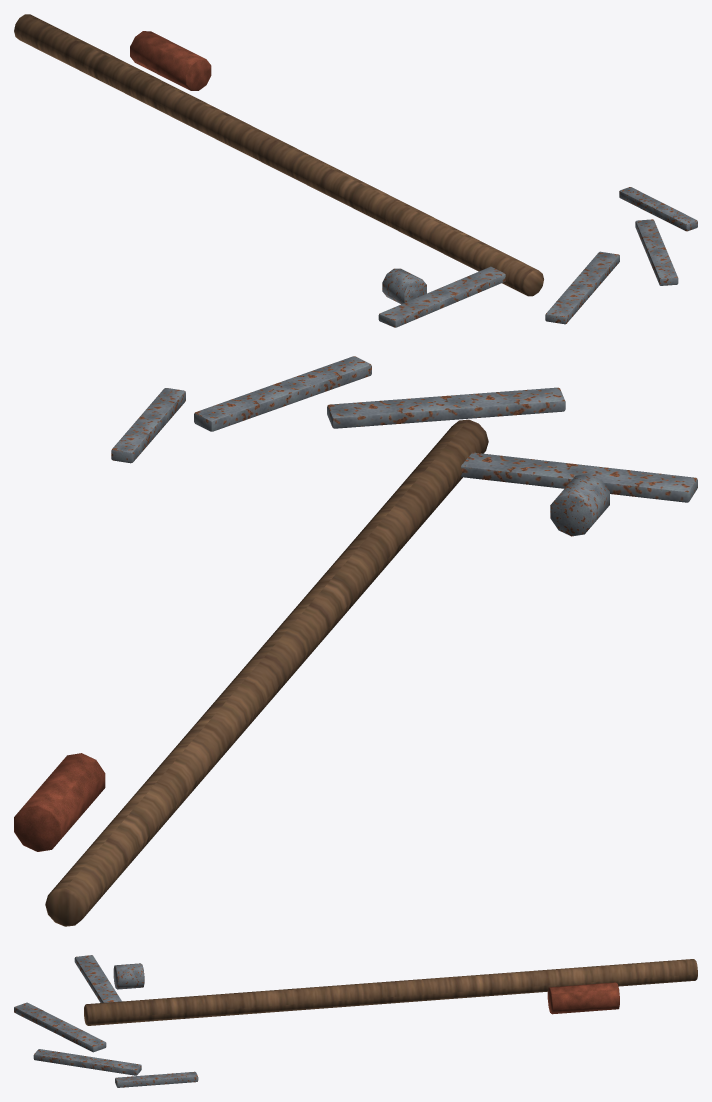
File: scythe_preview.glb
The picture shows the model from 3 angles, top to bottom: view 1: azimuth 30°, elevation 25°; view 2: azimuth 150°, elevation 25°; view 3: azimuth 270°, elevation 25°; orthographic projection. The views are drawn at different scales.
Parts seen in each view (by area): view 1: scythe; view 2: scythe; view 3: scythe.
Boxes of the visible parts, <box> form: scythe: <box>14,14,697,327</box>; scythe: <box>14,356,697,926</box>; scythe: <box>14,955,697,1087</box>.
Size of the model in its own units: 0.4386 by 0.04 by 0.9926.
Materials: 3 (3 with a texture image).
